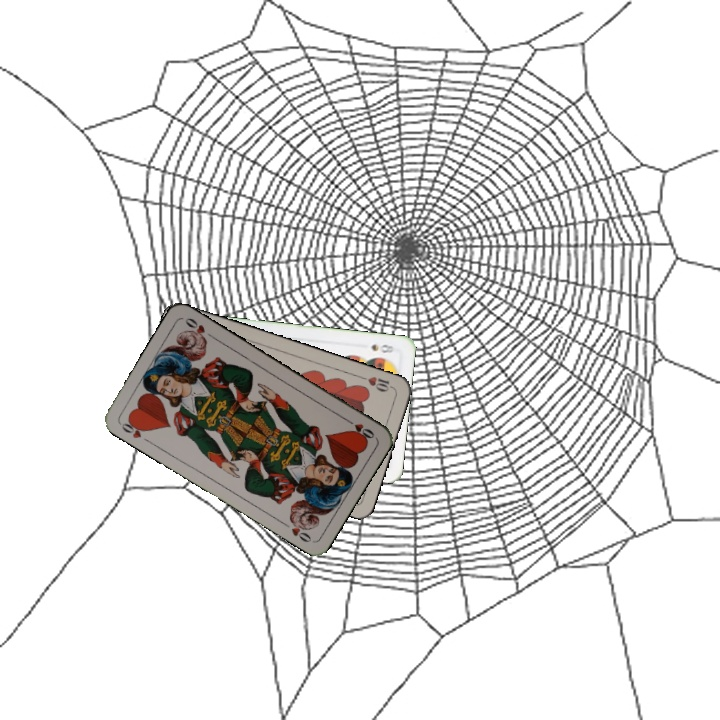H10: (357, 372, 396, 395)
HO: (341, 414, 377, 442), (116, 415, 150, 441)
S8: (367, 340, 397, 356)
